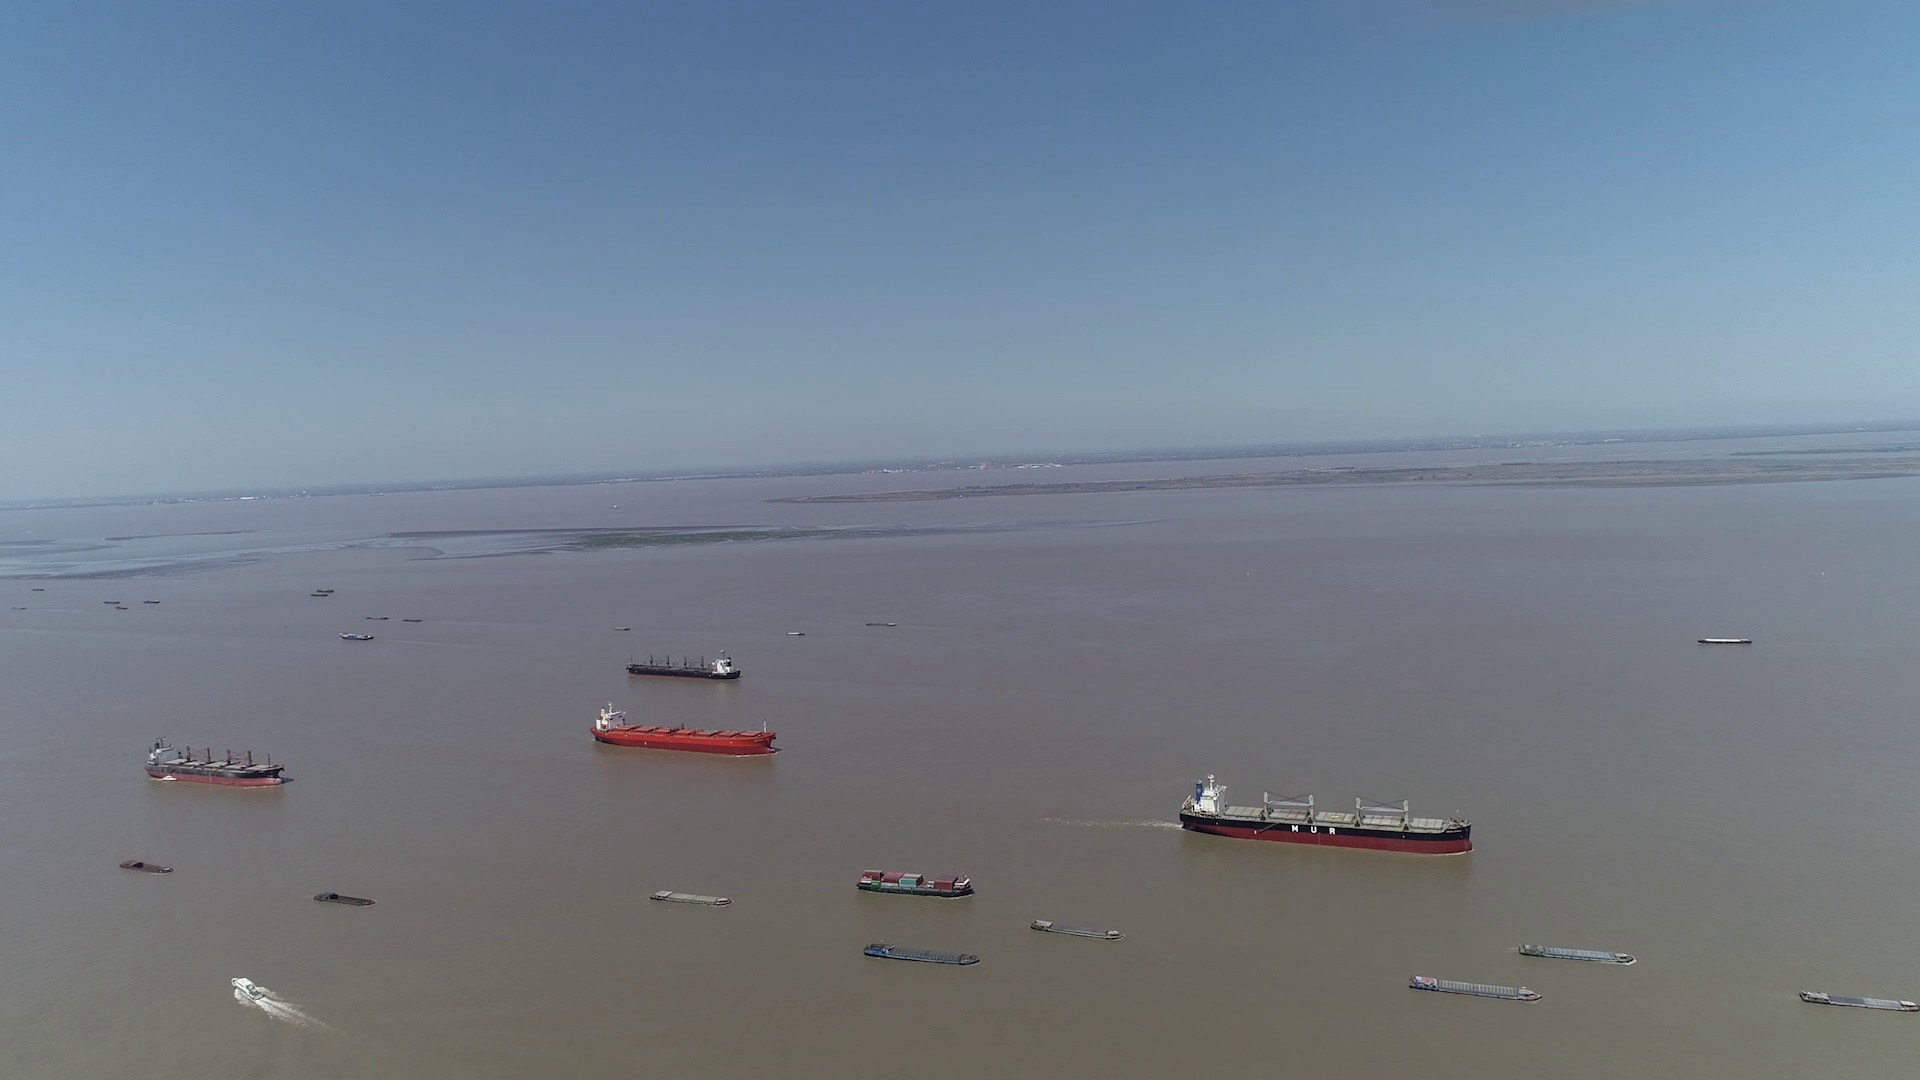ship: (1178, 775, 1473, 855), (593, 705, 774, 754), (146, 736, 289, 787), (1410, 975, 1544, 1002), (628, 651, 738, 679), (857, 870, 973, 897), (862, 942, 978, 965), (1797, 989, 1920, 1011), (1519, 942, 1633, 963), (1030, 916, 1124, 939), (647, 889, 731, 905), (232, 975, 266, 1004), (117, 858, 171, 876), (316, 891, 375, 906), (1698, 636, 1753, 645), (340, 632, 376, 640)
